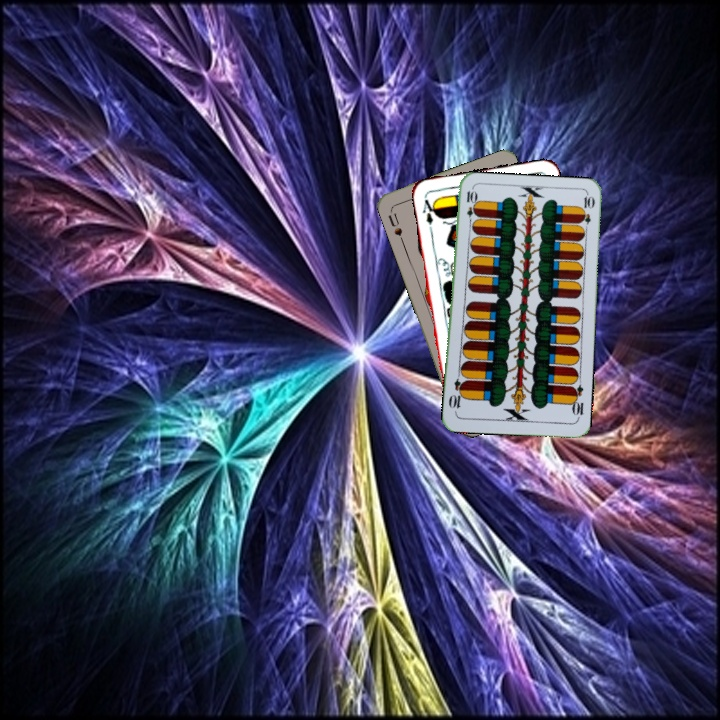E10: (567, 381, 586, 422), (462, 187, 477, 227)
EA: (419, 192, 439, 233)
SU: (384, 206, 406, 245)
